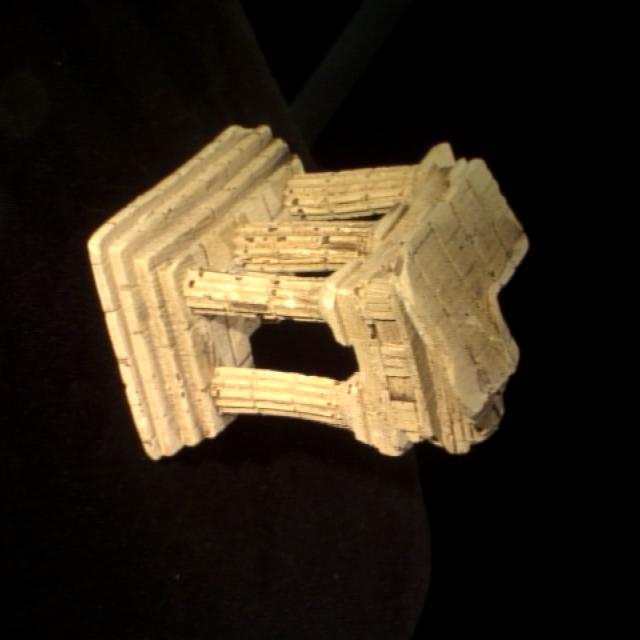Instance-Segmentation: (90, 125, 527, 457)
